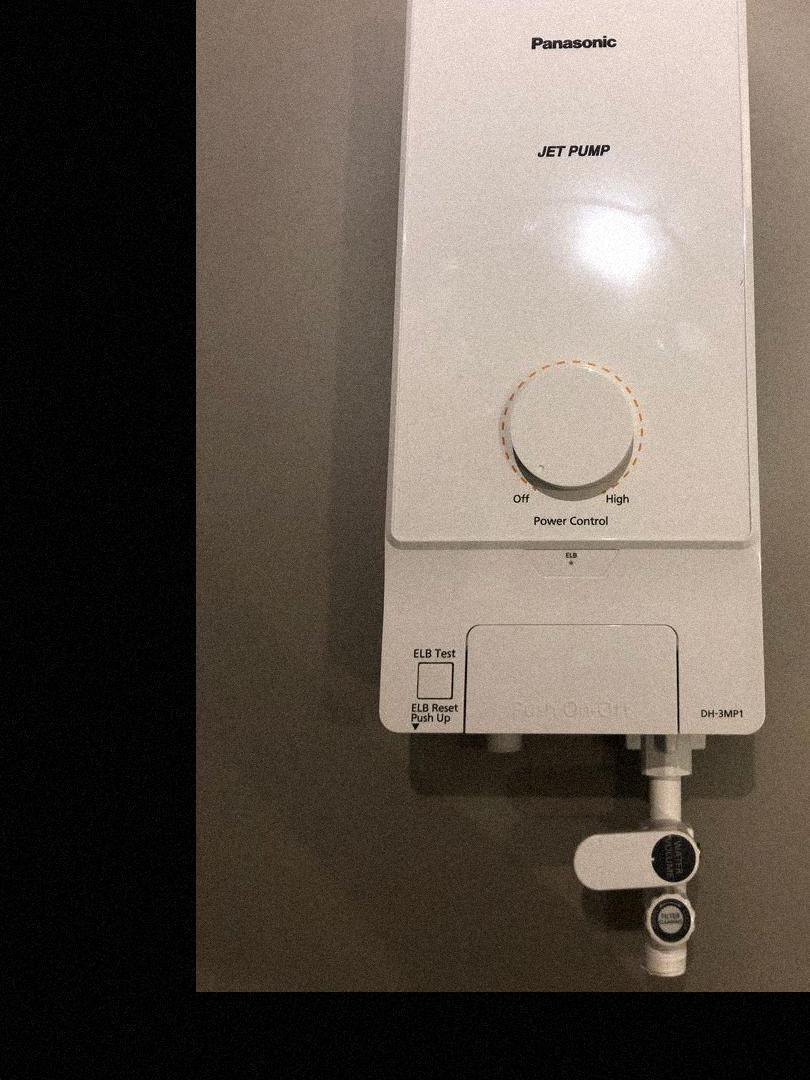Ducha: (196, 0, 810, 991)
